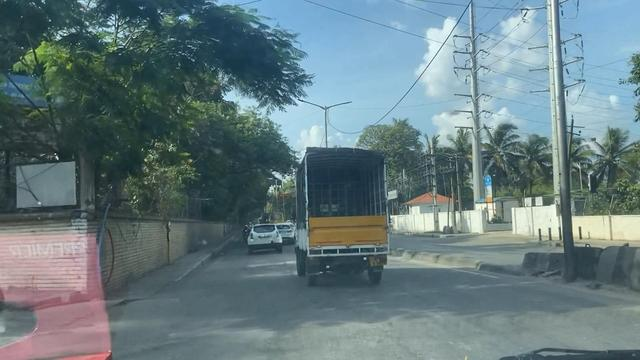HMV: (299, 146, 388, 288), (35, 296, 138, 341)
LMV: (246, 223, 281, 251)
